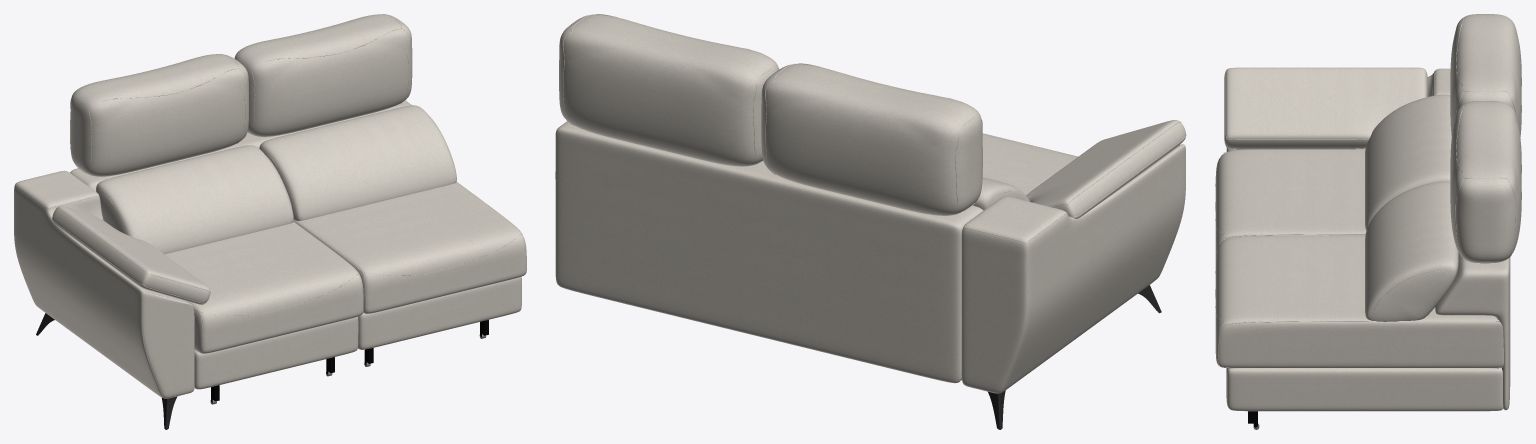
File: arm2seats.glb
3 renders of one model, left to right at view 1: azimuth 30°, elevation 25°; view 2: azimuth 150°, elevation 25°; view 3: azimuth 270°, elevation 25°, orthographic. The views are drawn at different scales.
Parts seen in each view (by area): view 1: assento (×2), object 4, object 20, object 16, object 30, object 31, object 3, Costa; view 2: Costa, object 4, object 20, object 16, object 3, assento, object 31; view 3: assento (×2), object 3, object 30, object 16, object 31, object 20, Costa, object 4, D=~ 0,00 m.
Boxes of the visible parts, left/top/right/bottom form: assento (×2): left=165, top=182, right=526, bottom=404; object 4: left=14, top=170, right=194, bottom=398; object 20: left=70, top=54, right=248, bottom=176; object 16: left=234, top=14, right=412, bottom=136; object 30: left=259, top=105, right=456, bottom=220; object 31: left=96, top=145, right=293, bottom=254; object 3: left=52, top=206, right=210, bottom=304; Costa: left=70, top=100, right=411, bottom=191; Costa: left=555, top=121, right=983, bottom=383; object 4: left=961, top=144, right=1185, bottom=393; object 20: left=761, top=64, right=982, bottom=215; object 16: left=559, top=14, right=779, bottom=166; object 3: left=1026, top=120, right=1186, bottom=218; assento: left=960, top=133, right=1077, bottom=380; object 31: left=973, top=177, right=1029, bottom=210; assento (×2): left=1215, top=148, right=1503, bottom=429; object 3: left=1224, top=67, right=1427, bottom=148; object 30: left=1365, top=181, right=1458, bottom=321; object 16: left=1450, top=101, right=1521, bottom=262; object 31: left=1365, top=94, right=1451, bottom=230; object 20: left=1450, top=14, right=1521, bottom=136; Costa: left=1435, top=253, right=1510, bottom=410; object 4: left=1226, top=68, right=1450, bottom=151; D=~ 0,00 m: left=1218, top=321, right=1502, bottom=368.
Size of the model in its own units: 1.74 by 1.04 by 1.1.
Materials: 5 (1 with a texture image).
